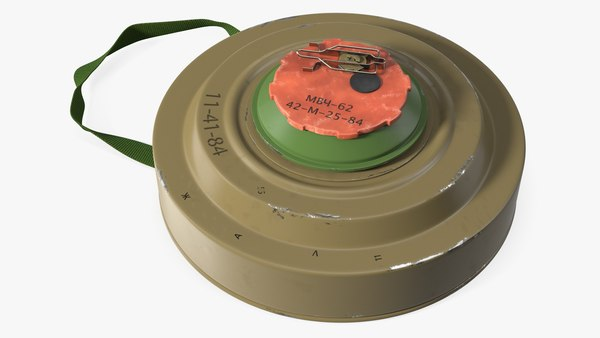car: (47, 4, 540, 332)
